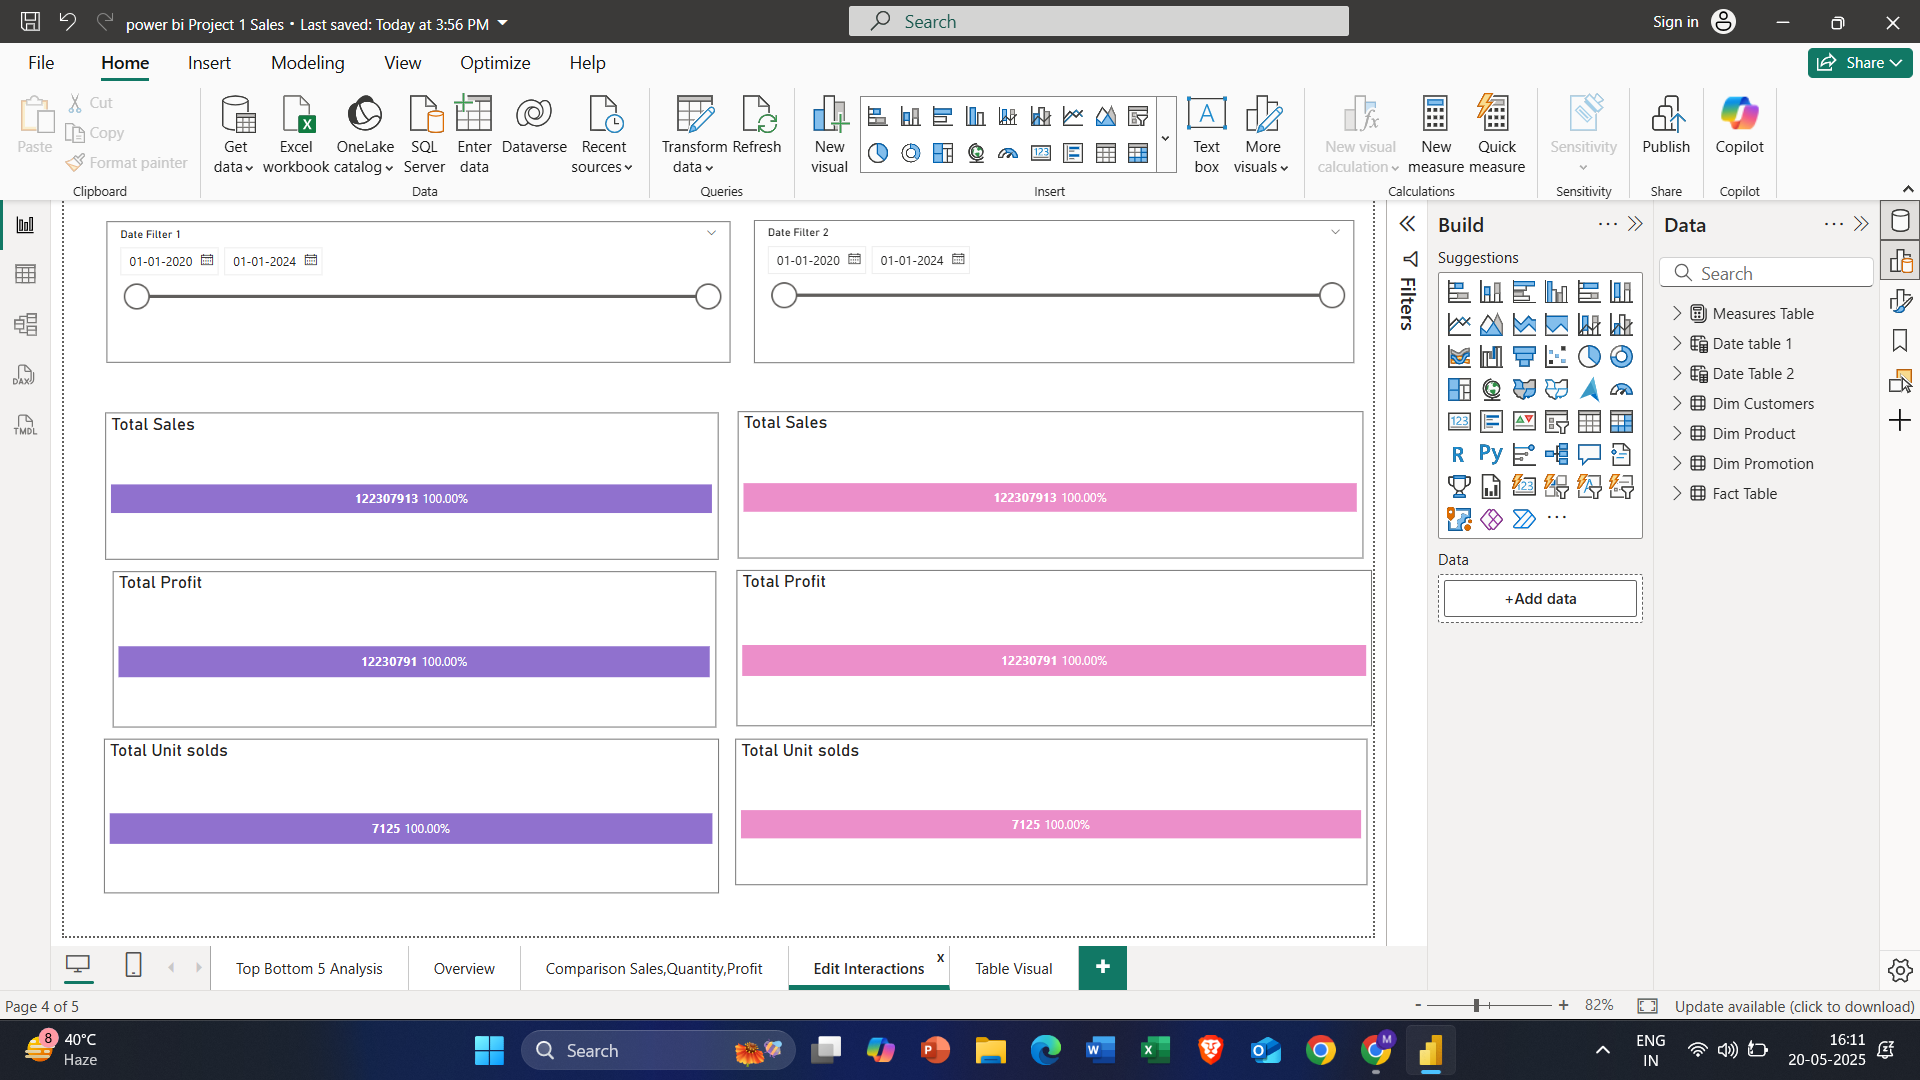

What the dashboard file says about the page in this screenshot:
{"tool":"powerbi","page":{"name":"Edit Interactions","canvas":[1280,720],"ordinal":3},"visuals":[{"type":"slicer","fields":{"Values":["Fact Table.Date (dd/mm/yyyy)"]},"box":[41.8,20.2,610.3,138.5],"z":0},{"type":"slicer","fields":{"Values":["Fact Table.Date (dd/mm/yyyy)"]},"box":[675.2,19.9,587.2,139.9],"z":1000},{"type":"hundredPercentStackedBarChart","title":"Total Profit","fields":{"Y":["Sum(Fact Table.Profit)"]},"box":[47.3,363.3,590.1,152.9],"z":2000},{"type":"hundredPercentStackedBarChart","title":"Total Sales","fields":{"Y":["Sum(Fact Table.Net Sales)"]},"box":[40.4,207.8,599.9,144.3],"z":3000},{"type":"hundredPercentStackedBarChart","title":"Total Unit solds","fields":{"Y":["Sum(Fact Table.Units Sold)"]},"box":[39,526.6,601.6,151.5],"z":4000},{"type":"hundredPercentStackedBarChart","title":"Total Profit","fields":{"Y":["Sum(Fact Table.Profit)"]},"box":[657.9,362.1,621.8,152.9],"z":5000},{"type":"hundredPercentStackedBarChart","title":"Total Sales","fields":{"Y":["Sum(Fact Table.Net Sales)"]},"box":[659.3,206.3,612,144.3],"z":6000},{"type":"hundredPercentStackedBarChart","title":"Total Unit solds","fields":{"Y":["Sum(Fact Table.Units Sold)"]},"box":[656.7,526.6,618.7,142.8],"z":7000}]}

Visuals, with their boxes on the page's 1280x720 design canvas (x1, y1, x2, y2). These are canvas units, not pixel positions in the 1920x1080 screenshot, which may show the page scaled, cropped or inside an application window:
slicer - Fact Table.Date (dd/mm/yyyy): [42,20,652,159]
slicer - Fact Table.Date (dd/mm/yyyy): [675,20,1262,160]
"Total Profit" hundredPercentStackedBarChart: [47,363,637,516]
"Total Sales" hundredPercentStackedBarChart: [40,208,640,352]
"Total Unit solds" hundredPercentStackedBarChart: [39,527,641,678]
"Total Profit" hundredPercentStackedBarChart: [658,362,1280,515]
"Total Sales" hundredPercentStackedBarChart: [659,206,1271,351]
"Total Unit solds" hundredPercentStackedBarChart: [657,527,1275,669]
